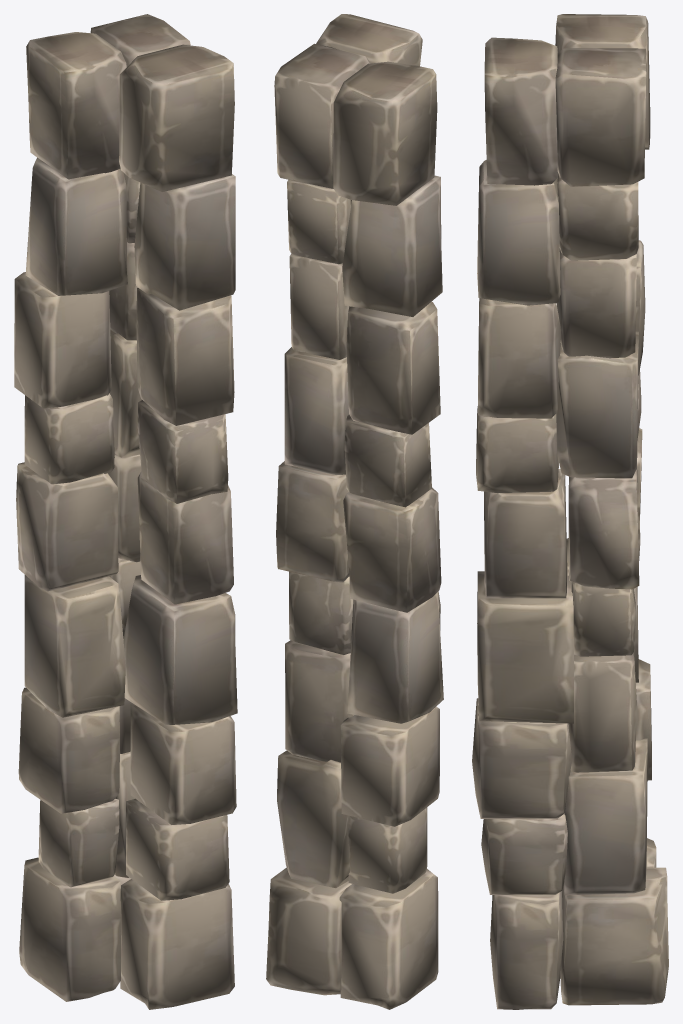
File: pilar.glb
3 views of the same model, side by side, from view 1: azimuth 30°, elevation 25°; view 2: azimuth 150°, elevation 25°; view 3: azimuth 270°, elevation 25° (orthographic). The views are drawn at different scales.
Parts seen in each view (by area): view 1: Corner_Exterior_Brick; view 2: Corner_Exterior_Brick; view 3: Corner_Exterior_Brick.
Part boxes in pixels (x1,y1,x2,y2): Corner_Exterior_Brick: [14, 14, 237, 1009]; Corner_Exterior_Brick: [266, 14, 443, 1009]; Corner_Exterior_Brick: [472, 14, 668, 1009].
Bounding box in the file's own units: 0.5249 × 3.01 × 0.5758.
1 material, 1 textured.
